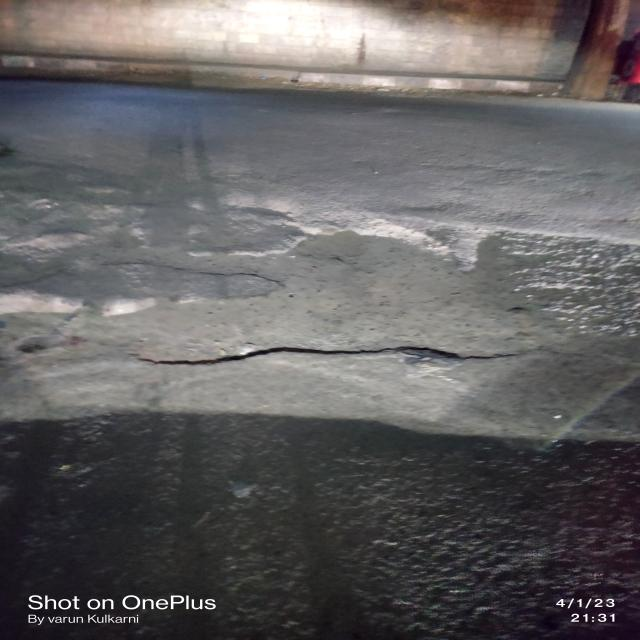potholes: (106, 258, 546, 372)
